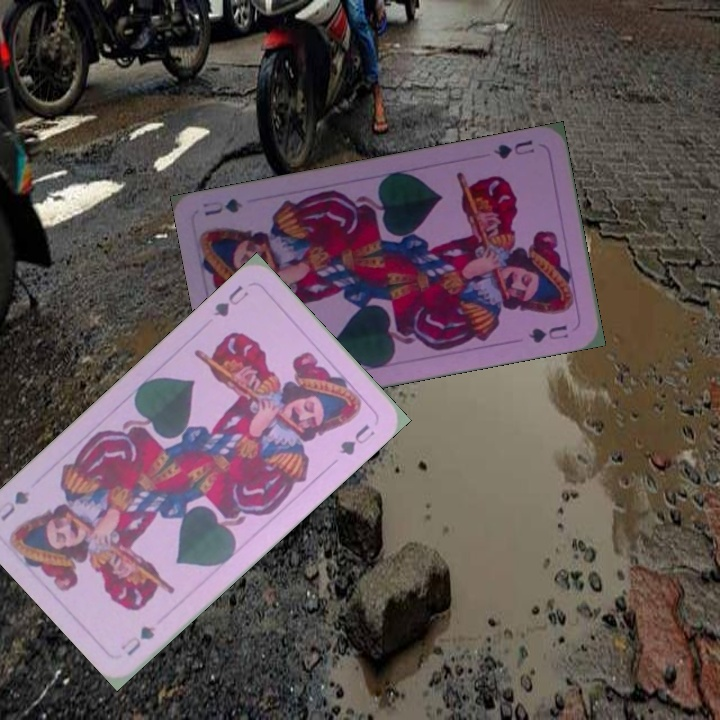GU: (209, 281, 252, 320), (116, 621, 158, 659), (490, 136, 537, 162)
